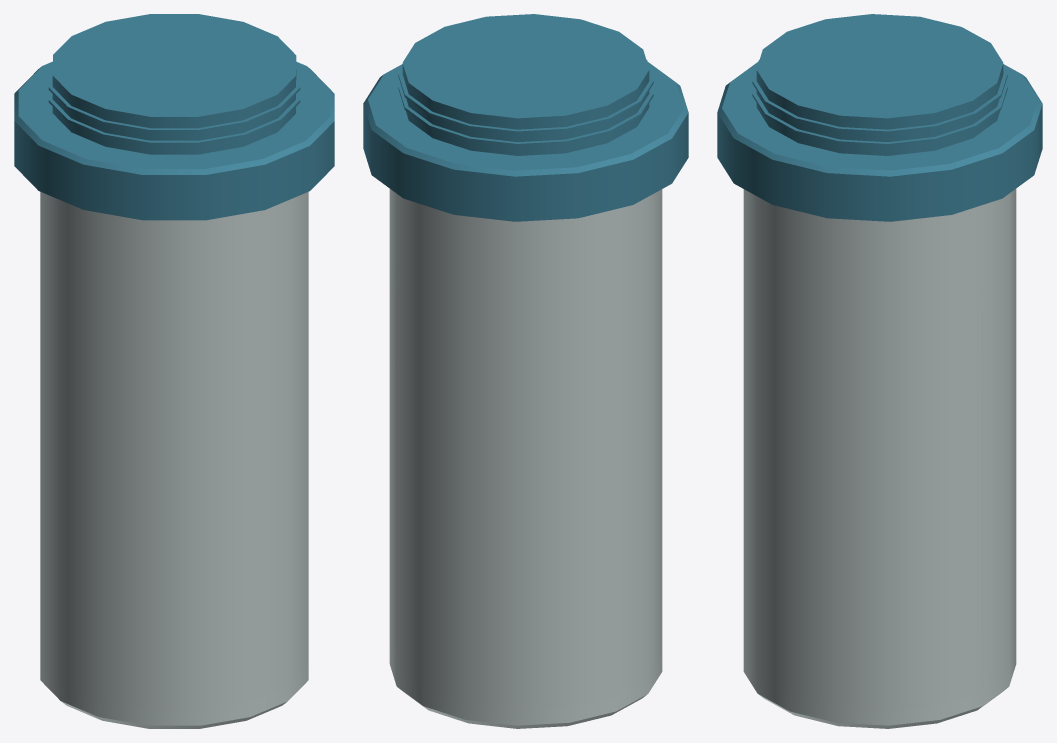
File: PillBottleA.fbx
The picture shows the model from 3 angles, left to right: view 1: azimuth 30°, elevation 25°; view 2: azimuth 150°, elevation 25°; view 3: azimuth 270°, elevation 25°; orthographic projection.
Visible parts, largest first — view 1: PillBottleA; view 2: PillBottleA; view 3: PillBottleA.
Part boxes in pixels (x1,y1,x2,y2): PillBottleA: (14, 14, 334, 728); PillBottleA: (363, 14, 688, 728); PillBottleA: (717, 14, 1042, 728).
Size of the model in its own units: 4.49 by 9.26 by 4.49.
